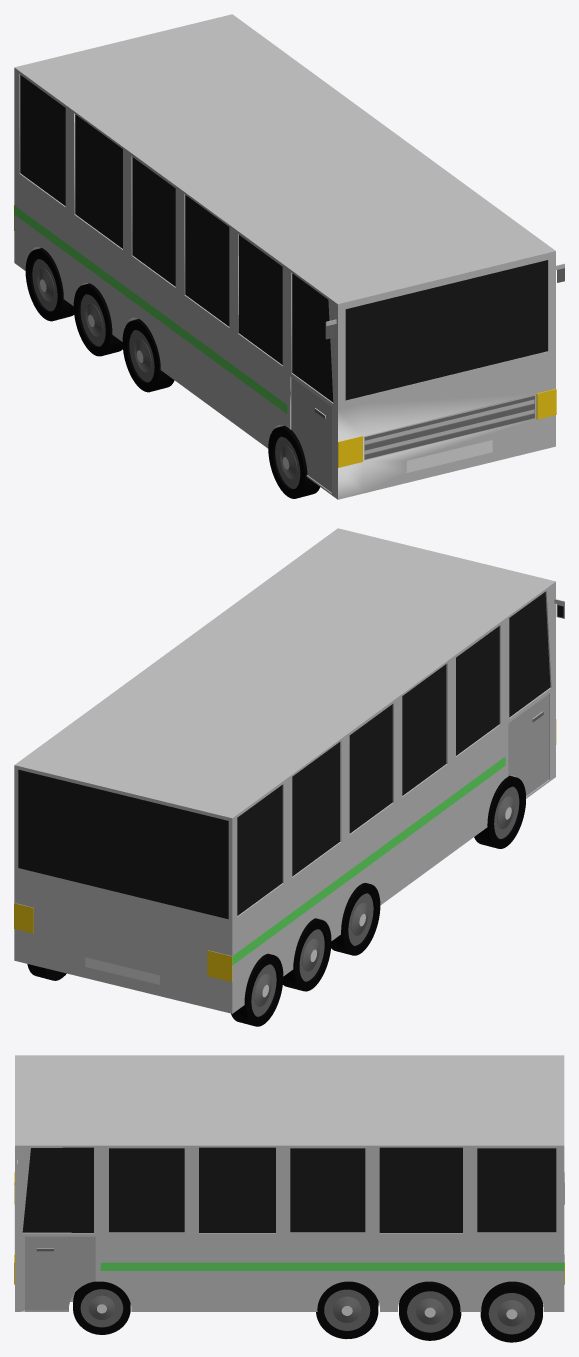
Rendered from Bus01.glb.
The picture shows the model from 3 angles, top to bottom: view 1: azimuth 30°, elevation 25°; view 2: azimuth 150°, elevation 25°; view 3: azimuth 270°, elevation 25°; orthographic projection. The views are drawn at different scales.
Visible parts, largest first — view 1: Bus; view 2: Bus; view 3: Bus.
Boxes of the visible parts, bbox=[...] form: Bus: bbox=[14, 14, 564, 499]; Bus: bbox=[14, 528, 564, 1026]; Bus: bbox=[14, 1055, 564, 1342].
Size of the model in its own units: 3.95 by 3.67 by 9.31.
